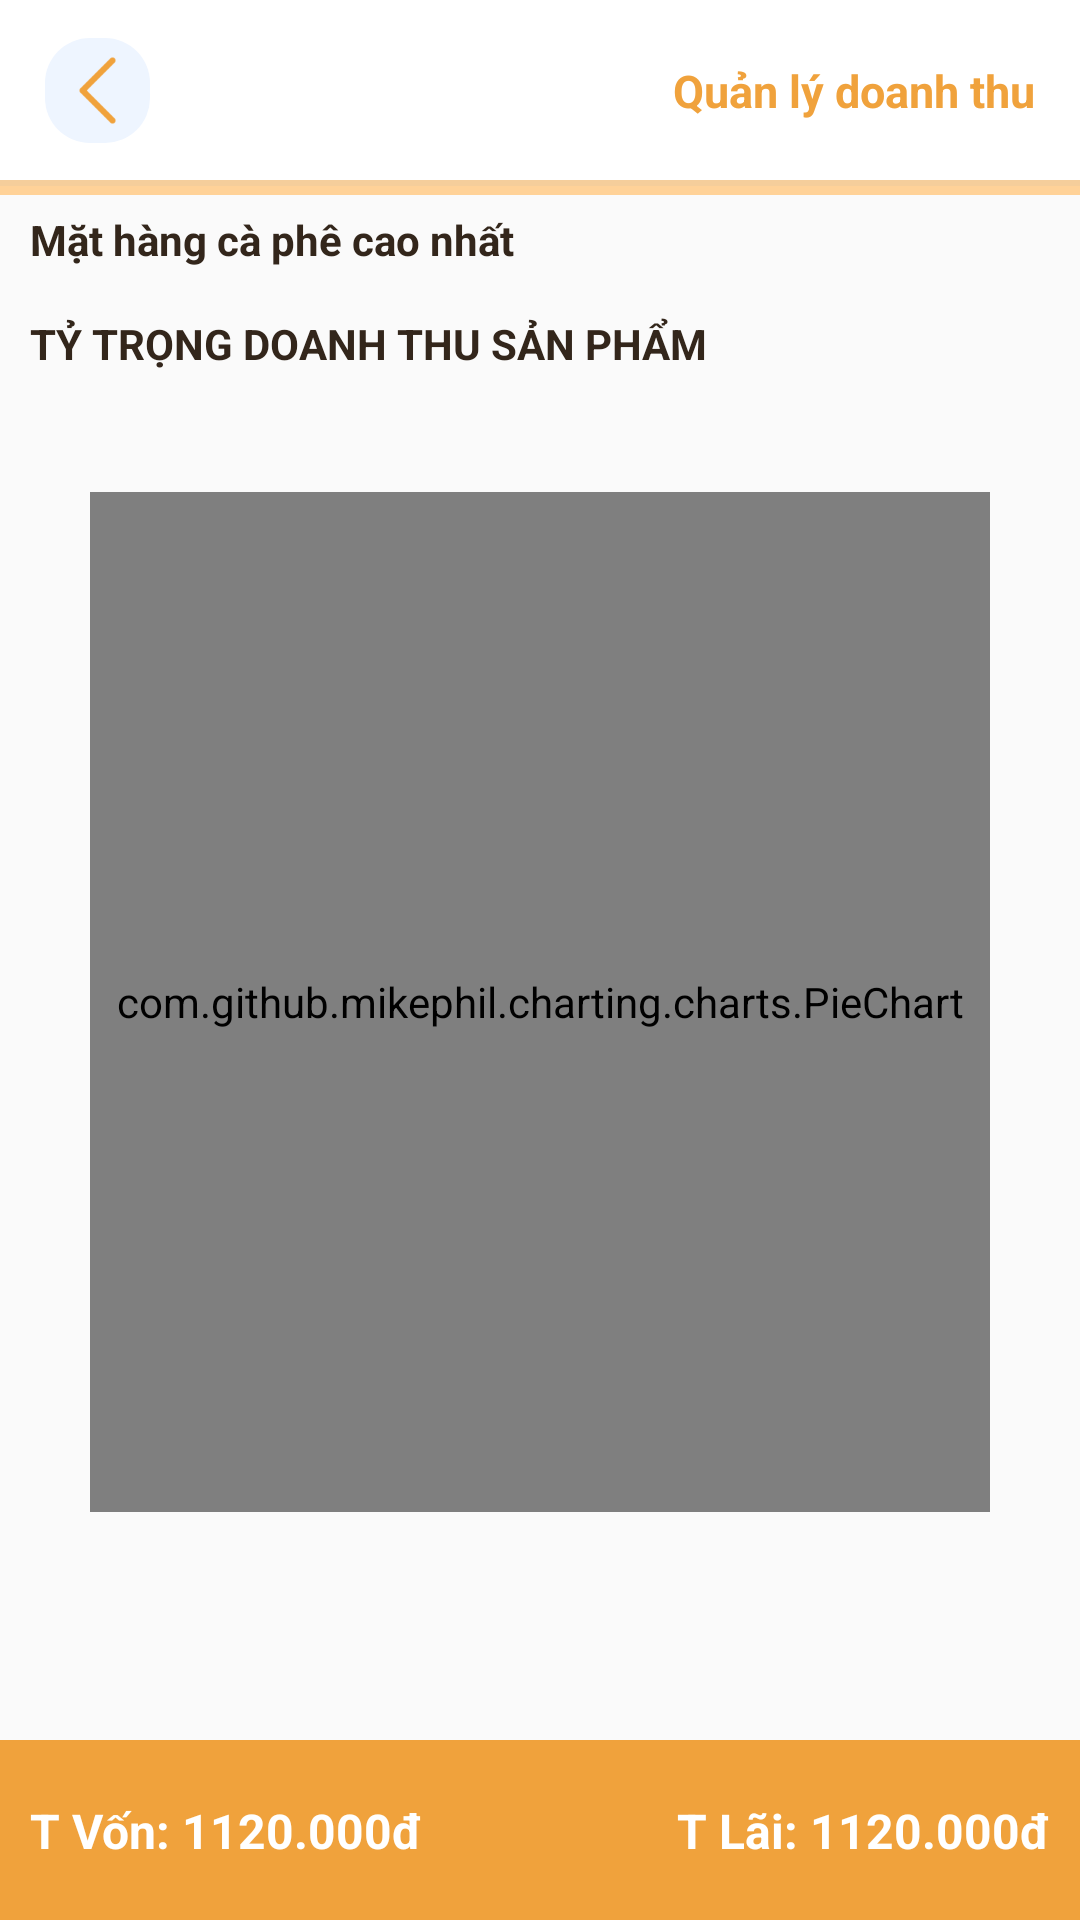

Screen size 1080 x 1920. Icon name, then its center in pixels as (x=x, y=y):
back orage: (x=97, y=90)
